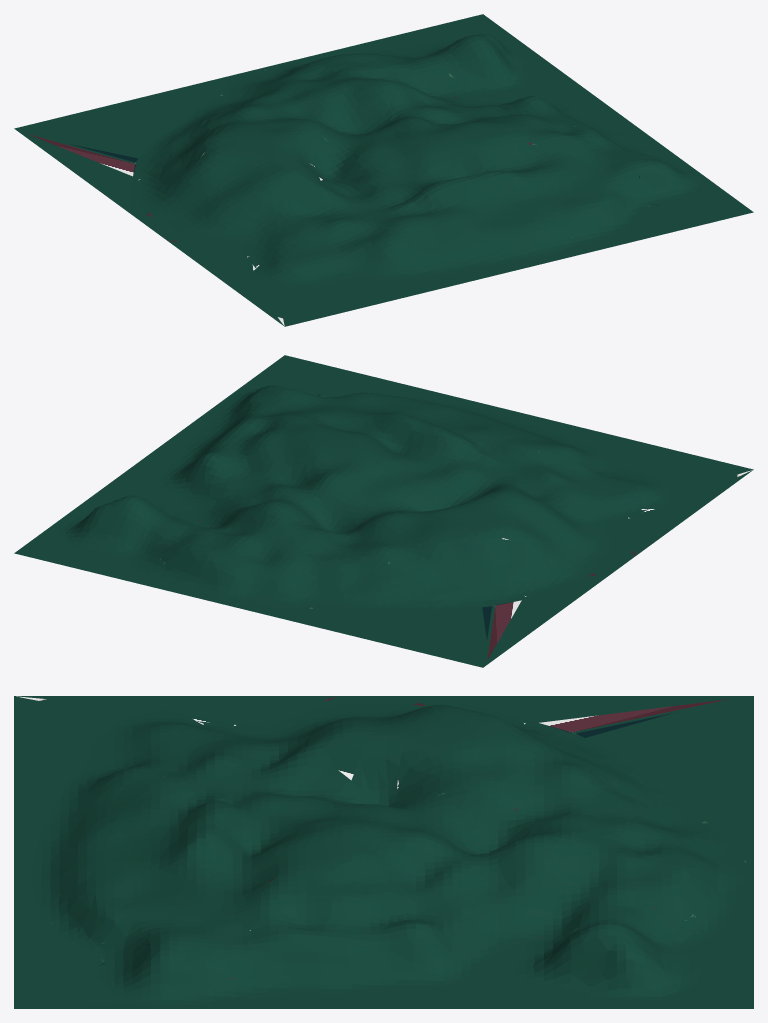
File: Island1.fbx
The picture shows the model from 3 angles, top to bottom: view 1: azimuth 30°, elevation 25°; view 2: azimuth 150°, elevation 25°; view 3: azimuth 270°, elevation 25°; orthographic projection. The views are drawn at different scales.
Visible parts, largest first — view 1: Plane; view 2: Plane; view 3: Plane.
Part boxes in pixels (<box>): Plane: <box>14,14,753,326</box>; Plane: <box>14,355,753,667</box>; Plane: <box>14,696,753,1008</box>.
Size of the model in its own units: 1600 by 120 by 1600.
